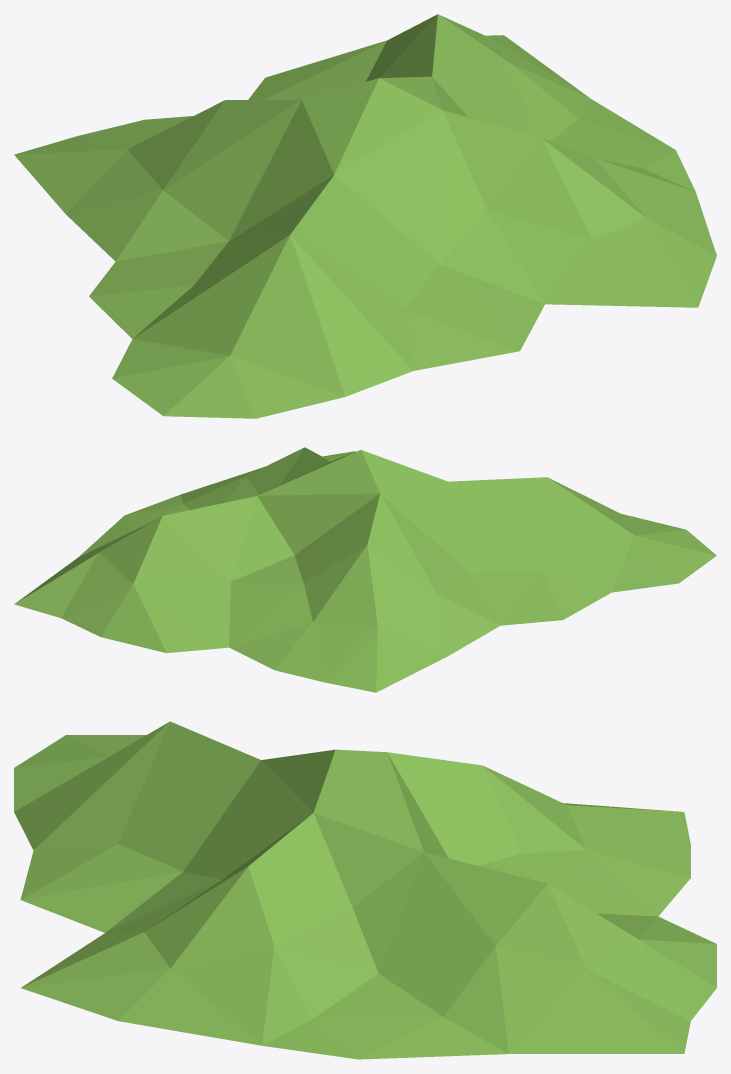
The model's file is MT_Mountain_S_a_17.fbx.
3 renders of one model, top to bottom at view 1: azimuth 30°, elevation 25°; view 2: azimuth 150°, elevation 25°; view 3: azimuth 270°, elevation 25°, orthographic. The views are drawn at different scales.
Parts seen in each view (by area): view 1: MT_Mountain_S_a_17; view 2: MT_Mountain_S_a_17; view 3: MT_Mountain_S_a_17.
Part boxes in pixels (box(x1,y1,x2,y2)): MT_Mountain_S_a_17: box(14, 14, 716, 418); MT_Mountain_S_a_17: box(14, 447, 716, 692); MT_Mountain_S_a_17: box(14, 721, 716, 1059).
Size of the model in its own units: 2305 by 522 by 2109.
